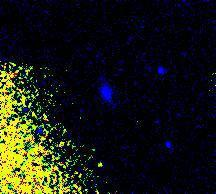star: (87, 150, 117, 180)
